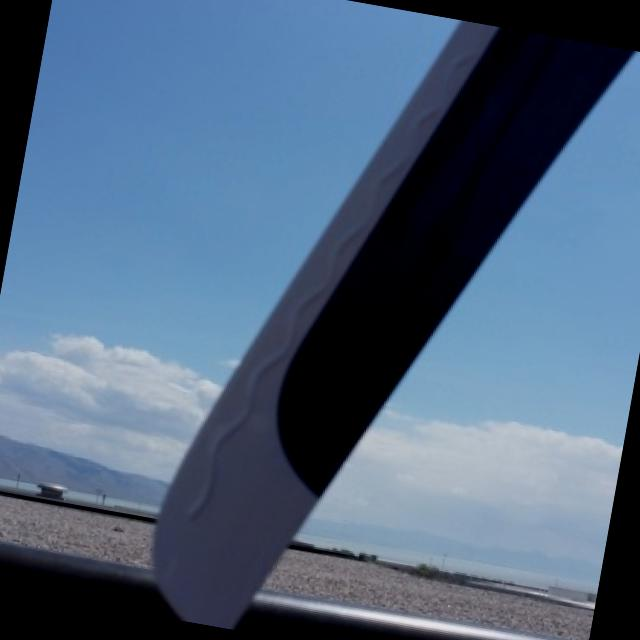healthy: (0, 0, 458, 378), (0, 347, 192, 434)
